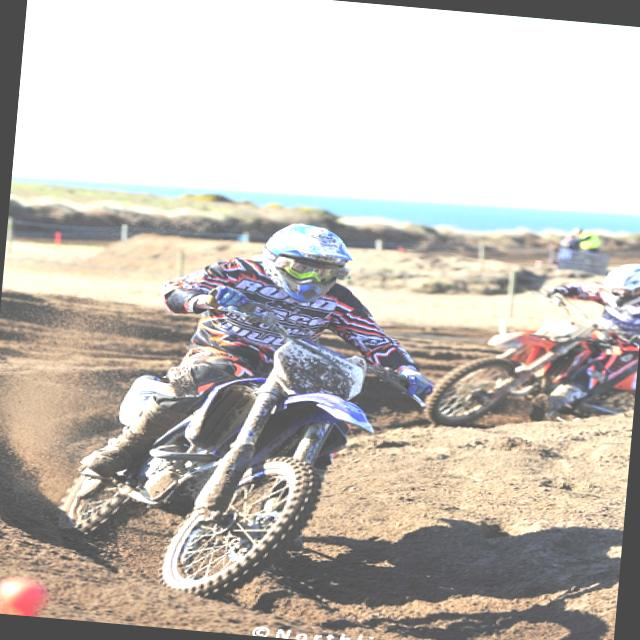Vehicle: (59, 289, 476, 612), (420, 283, 640, 441)
